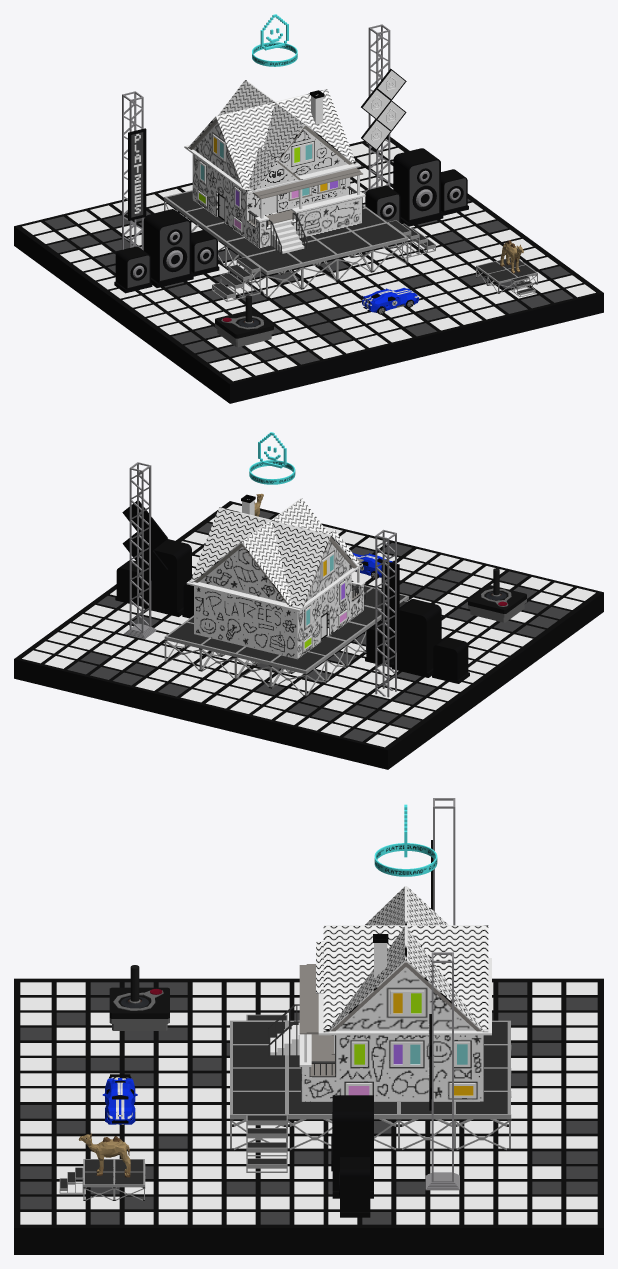
3 views of the same model, one above another, from view 1: azimuth 30°, elevation 25°; view 2: azimuth 150°, elevation 25°; view 3: azimuth 270°, elevation 25° (orthographic). The views are drawn at different scales.
Visible parts, largest first — view 1: Cube.008, Cube.879, OBJRANDOM_JOYSTICK, VEHICLES_RACING_CAR, TYPE_PREMIUM; view 2: Cube.008, Cube.879, OBJRANDOM_JOYSTICK, TYPE_PREMIUM, VEHICLES_RACING_CAR; view 3: Cube.008, Cube.879, OBJRANDOM_JOYSTICK, VEHICLES_RACING_CAR, TYPE_PREMIUM, ANIMAL_CAMELLO.
Boxes of the visible parts, x1,y1,x2,y2 form: Cube.008: (14,24,603,403); Cube.879: (184,80,365,254); OBJRANDOM_JOYSTICK: (215,295,273,347); VEHICLES_RACING_CAR: (361,287,418,314); TYPE_PREMIUM: (252,14,297,66); Cube.008: (14,462,603,769); Cube.879: (186,494,366,659); OBJRANDOM_JOYSTICK: (468,568,526,622); TYPE_PREMIUM: (249,432,295,484); VEHICLES_RACING_CAR: (352,552,394,579); Cube.008: (14,798,603,1254); Cube.879: (268,886,491,1101); OBJRANDOM_JOYSTICK: (109,965,169,1030); VEHICLES_RACING_CAR: (102,1074,137,1124); TYPE_PREMIUM: (374,804,437,876); ANIMAL_CAMELLO: (78,1133,130,1177).
Size of the model in its own units: 4000 by 2512 by 4000.
Materials: 52 (9 with a texture image).
